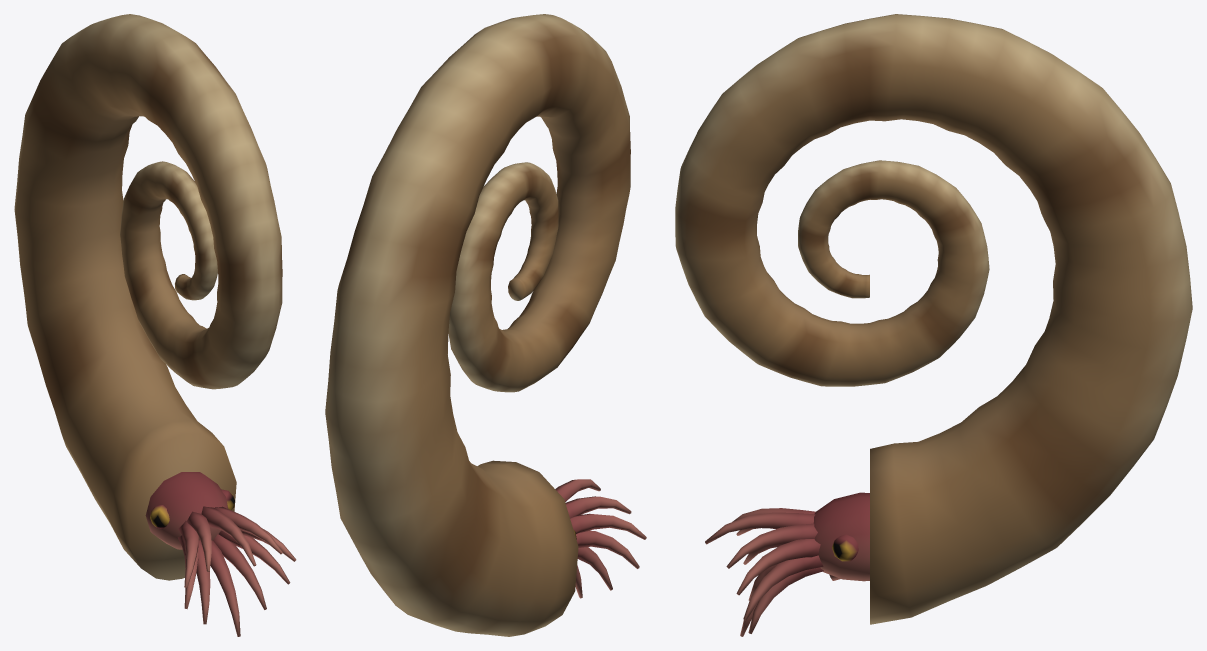
File: Anetoceras.fbx
The picture shows the model from 3 angles, left to right: view 1: azimuth 30°, elevation 25°; view 2: azimuth 150°, elevation 25°; view 3: azimuth 270°, elevation 25°; orthographic projection. The views are drawn at different scales.
Visible parts, largest first — view 1: Anetoceras; view 2: Anetoceras; view 3: Anetoceras.
Part boxes in pixels (<box>): Anetoceras: <box>14,14,296,636</box>; Anetoceras: <box>325,14,646,636</box>; Anetoceras: <box>675,14,1192,636</box>.
Bounding box in the file's own units: 0.3572 × 1.68 × 1.28.
